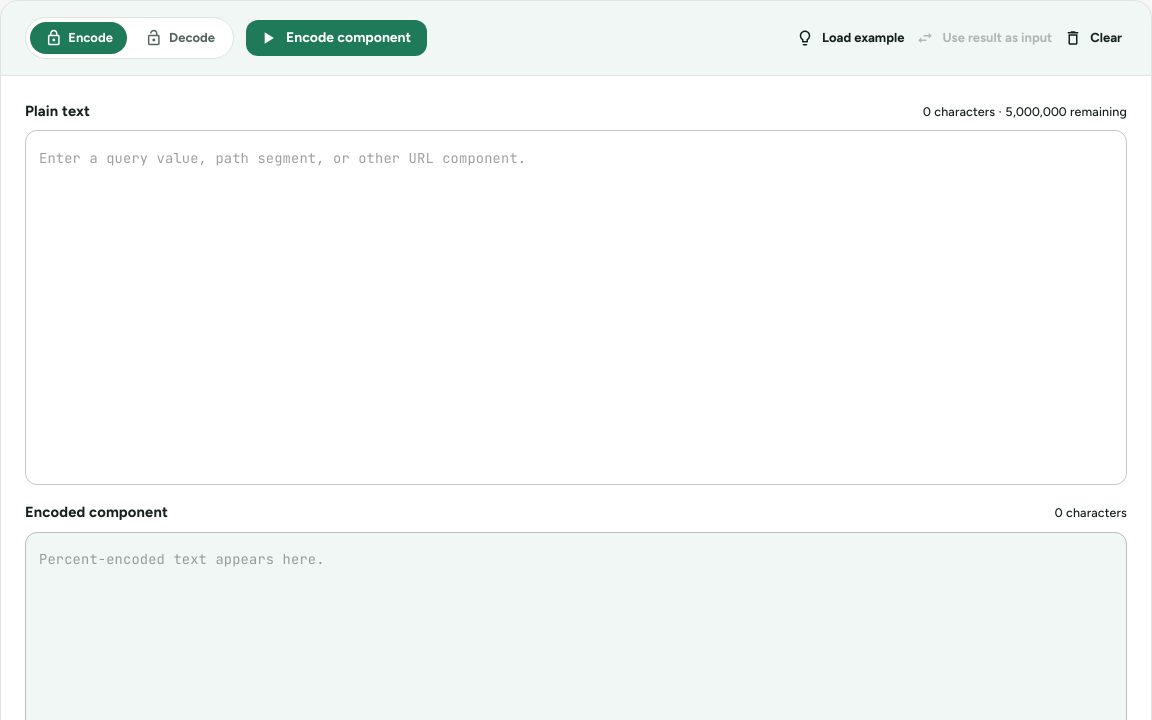
Test case: UrlEncoderDecoderTool › encodes a URL component and updates character counts
Type "hello world" into the text box labelled "Plain text".
click(576, 308); type("hello world")  # box [39, 147, 1113, 469]
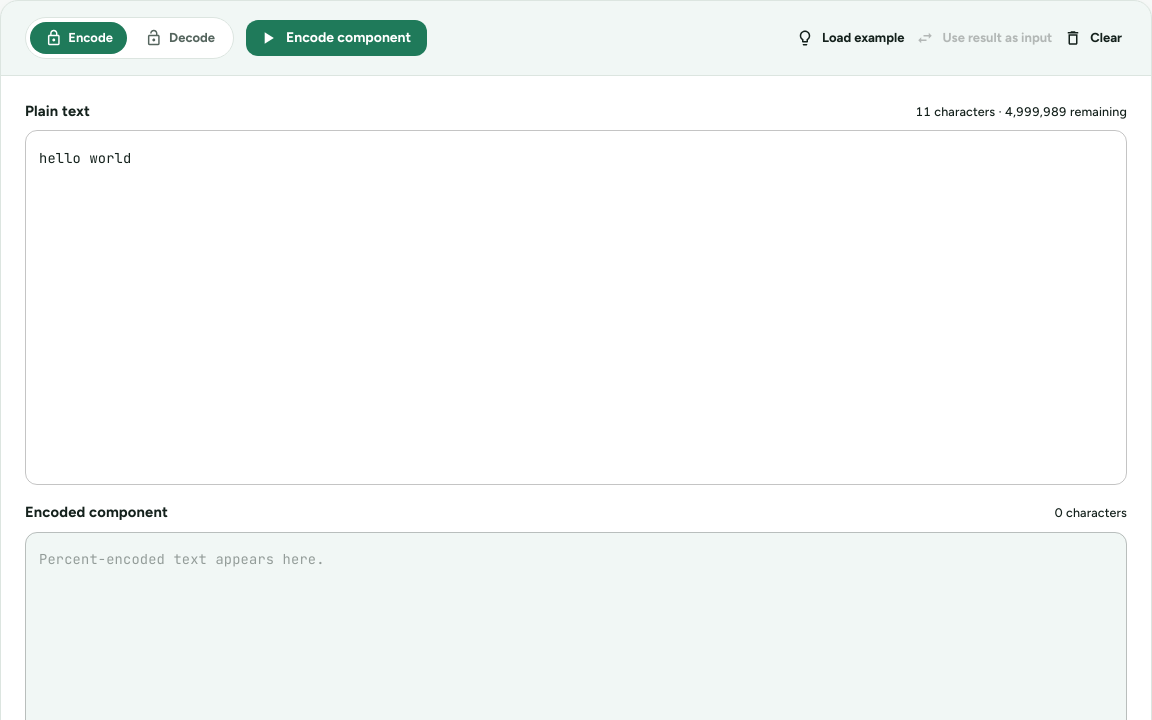
Expected: the text "11 characters · 4,999,989 remaining" is shown, [915, 103, 1127, 122]
Click the button "Encode component".
click(337, 38)  # box [246, 20, 427, 56]
(page scrolled)
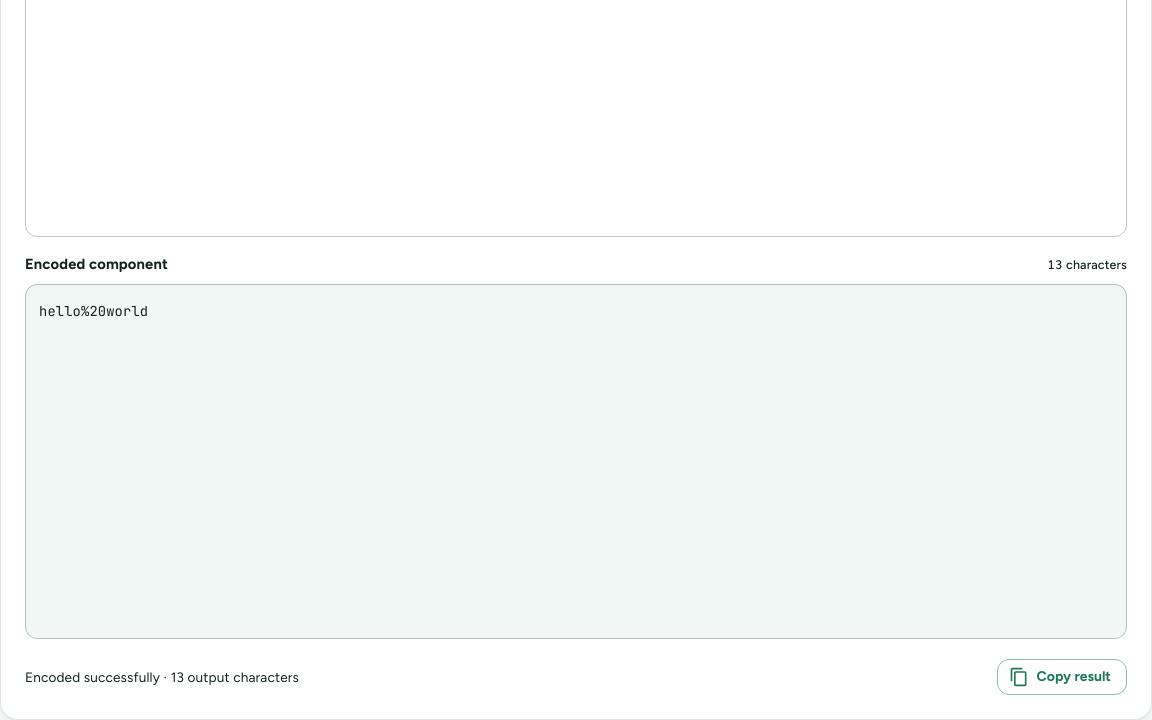
Expected: the text box labelled "Encoded component" holds "hello%20world", [39, 300, 1113, 622]
